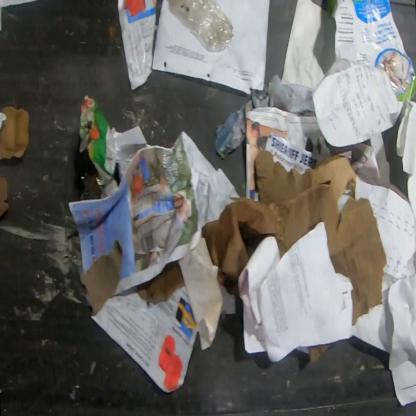cardboard: (202, 149, 387, 325), (78, 95, 121, 186), (0, 105, 30, 162), (0, 176, 10, 219)
rigid_plastic: (167, 0, 235, 53)
